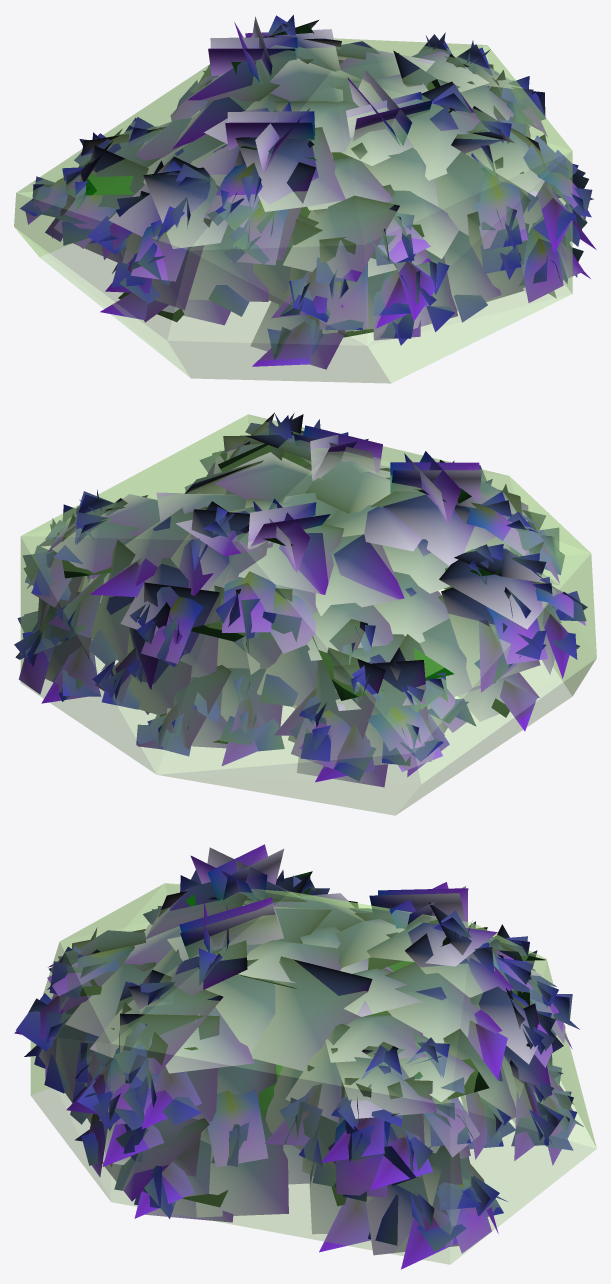
Rendered from tro_bush_huge.dae.
The picture shows the model from 3 angles, top to bottom: view 1: azimuth 30°, elevation 25°; view 2: azimuth 150°, elevation 25°; view 3: azimuth 270°, elevation 25°; orthographic projection. The views are drawn at different scales.
Parts seen in each view (by area): view 1: Colmesh-1, tree_oak_bush_a550, tree_oak_bush_a250; view 2: Colmesh-1, tree_oak_bush_a550, tree_oak_bush_a250; view 3: tree_oak_bush_a550, Colmesh-1, tree_oak_bush_a250.
Boxes of the visible parts, x1,y1,x2,y2 form: Colmesh-1: (14,36,572,383); tree_oak_bush_a550: (20,15,593,369); tree_oak_bush_a250: (25,16,596,366); Colmesh-1: (20,414,596,815); tree_oak_bush_a550: (14,413,587,787); tree_oak_bush_a250: (18,412,585,782); tree_oak_bush_a550: (16,870,583,1255); Colmesh-1: (30,883,596,1264); tree_oak_bush_a250: (14,844,575,1269).
Size of the model in its own units: 7.99 by 7.6 by 3.73.
